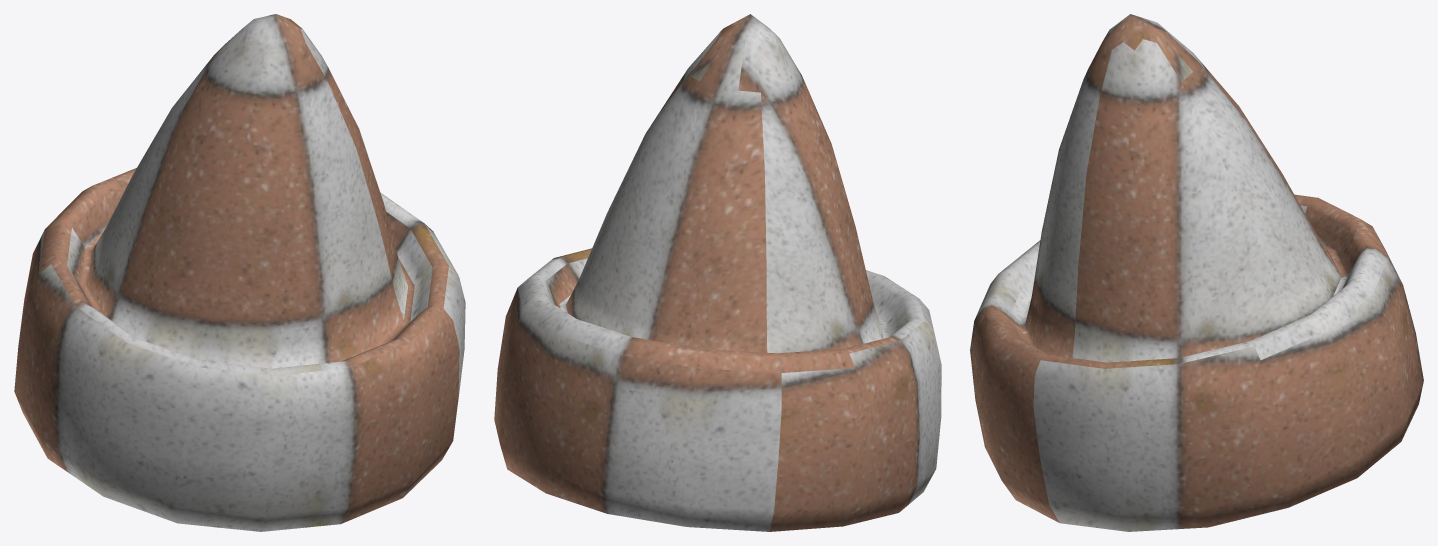
File: single-spike.glb
The picture shows the model from 3 angles, left to right: view 1: azimuth 30°, elevation 25°; view 2: azimuth 150°, elevation 25°; view 3: azimuth 270°, elevation 25°; orthographic projection.
Parts seen in each view (by area): view 1: Cylinder.012; view 2: Cylinder.012; view 3: Cylinder.012.
Boxes of the visible parts, x1,y1,x2,y2 form: Cylinder.012: [14, 14, 465, 531]; Cylinder.012: [494, 14, 941, 531]; Cylinder.012: [970, 14, 1423, 531].
Size of the model in its own units: 0.1991 by 0.2239 by 0.2023.
1 material, 1 textured.
